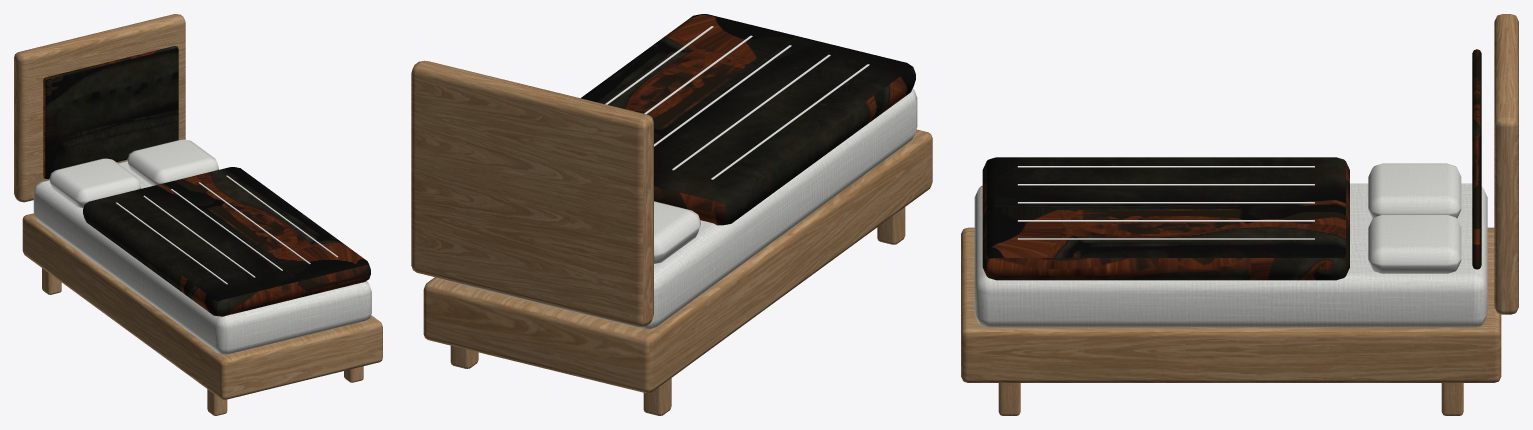
The model's file is bed_single_green.glb.
The picture shows the model from 3 angles, left to right: view 1: azimuth 30°, elevation 25°; view 2: azimuth 150°, elevation 25°; view 3: azimuth 270°, elevation 25°; orthographic projection. The views are drawn at different scales.
Visible parts, largest first — view 1: quilt, bed frame, padded headboard, mattress, headboard, pillow, pillow.001, bed foot, bed foot.001; view 2: headboard, quilt, bed frame, mattress, pillow, bed foot.001, bed foot, stitched quilt channel, stitched quilt channel.001, bed foot.003; view 3: quilt, bed frame, mattress, headboard, pillow.001, pillow, padded headboard, bed foot.002, bed foot.003, stitched quilt channel, stitched quilt channel.001, stitched quilt channel.002 (+2 smaller).
Boxes of the visible parts, x1,y1,x2,y2 form: quilt: [83, 167, 370, 316]; bed frame: [22, 213, 382, 399]; padded headboard: [43, 46, 178, 178]; mattress: [33, 161, 371, 354]; headboard: [14, 14, 185, 202]; pillow: [49, 158, 140, 207]; pillow.001: [127, 139, 218, 185]; bed foot: [207, 389, 227, 415]; bed foot.001: [42, 268, 61, 294]; headboard: [411, 60, 653, 326]; quilt: [581, 14, 915, 225]; bed frame: [423, 129, 932, 392]; mattress: [444, 89, 917, 328]; pillow: [654, 201, 700, 263]; bed foot.001: [643, 378, 671, 415]; bed foot: [877, 207, 905, 244]; stitched quilt channel: [711, 64, 869, 179]; stitched quilt channel.001: [672, 54, 830, 170]; bed foot.003: [450, 345, 478, 368]; quilt: [982, 157, 1349, 280]; bed frame: [961, 227, 1501, 382]; mattress: [974, 183, 1487, 327]; headboard: [1494, 14, 1518, 314]; pillow.001: [1368, 214, 1461, 273]; pillow: [1368, 163, 1461, 218]; padded headboard: [1472, 49, 1481, 269]; bed foot.002: [998, 383, 1020, 415]; bed foot.003: [1441, 383, 1463, 415]; stitched quilt channel: [1017, 166, 1314, 167]; stitched quilt channel.001: [1017, 184, 1314, 185]; stitched quilt channel.002: [1017, 202, 1314, 203].
Bounding box in the file's own units: 0.9476 × 1.23 × 2.04.
Materials: 5 (4 with a texture image).
